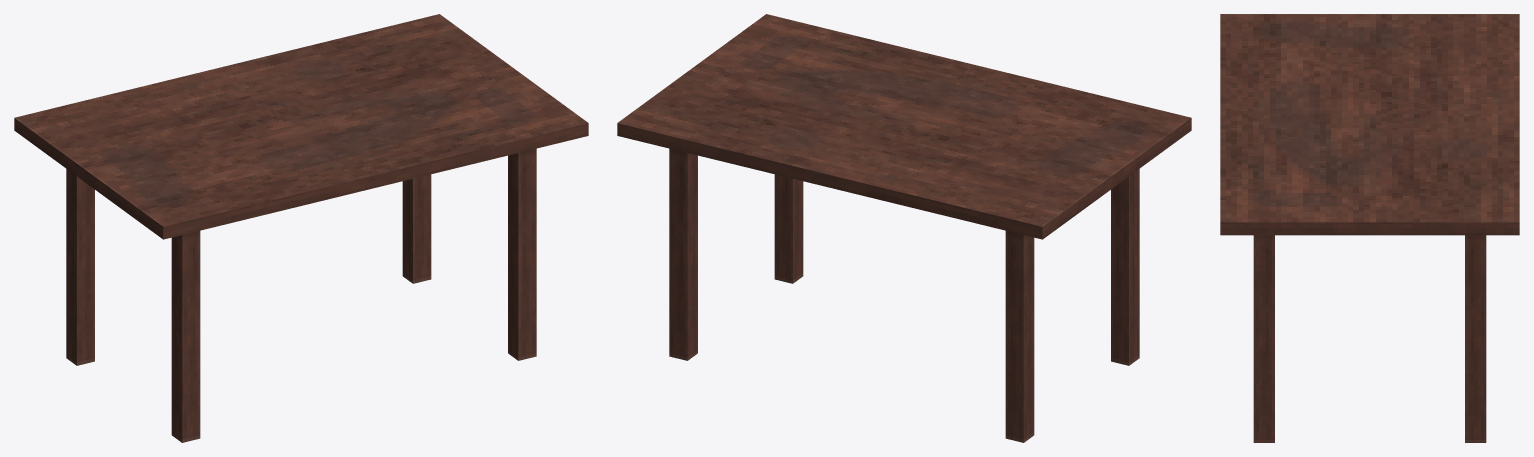
File: kitchen_table.glb
3 renders of one model, left to right at view 1: azimuth 30°, elevation 25°; view 2: azimuth 150°, elevation 25°; view 3: azimuth 270°, elevation 25°, orthographic.
Parts seen in each view (by area): view 1: Cube.001; view 2: Cube.001; view 3: Cube.001.
Boxes of the visible parts, x1,y1,x2,y2 form: Cube.001: [14, 14, 588, 442]; Cube.001: [617, 14, 1191, 442]; Cube.001: [1220, 14, 1519, 442].
Size of the model in its own units: 1.4 by 0.745 by 0.85.
Materials: 1 (1 with a texture image).
